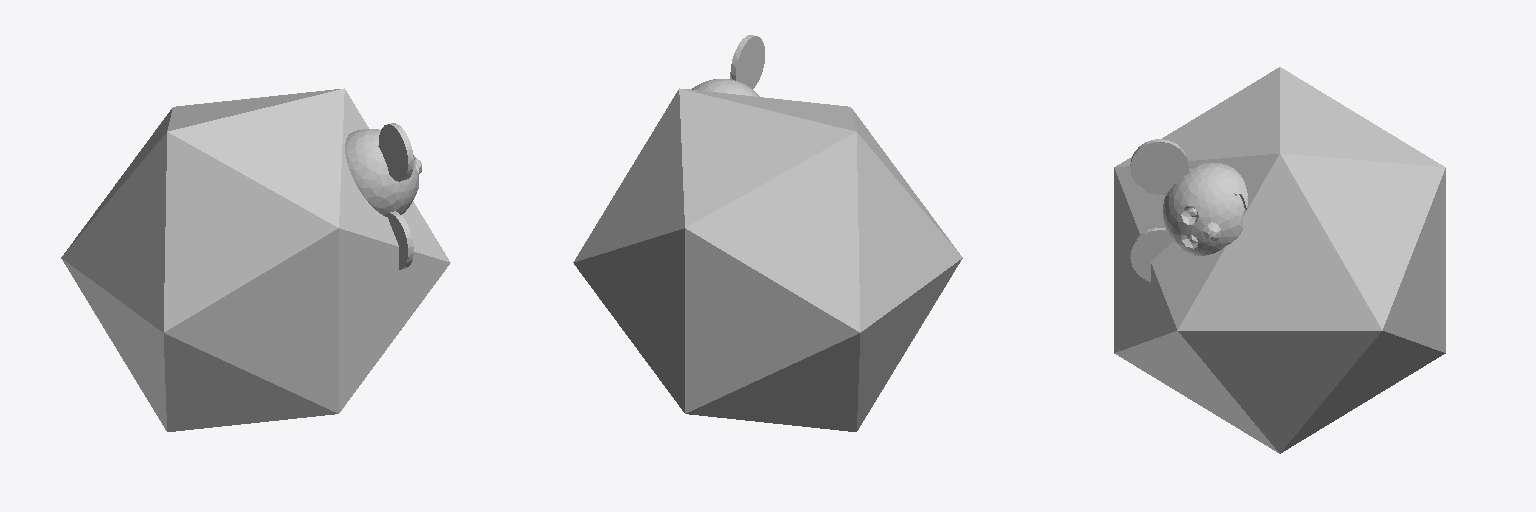
File: mickey.obj
3 views of the same model, side by side, from view 1: azimuth 30°, elevation 25°; view 2: azimuth 150°, elevation 25°; view 3: azimuth 270°, elevation 25° (orthographic).
Parts seen in each view (by area): view 1: icosahedron, mickey; view 2: icosahedron, mickey; view 3: icosahedron, mickey.
Part boxes in pixels (left/top/right/bottom): icosahedron: left=61, top=88, right=450, bottom=431; mickey: left=345, top=123, right=421, bottom=269; icosahedron: left=573, top=88, right=962, bottom=431; mickey: left=691, top=35, right=764, bottom=96; icosahedron: left=1114, top=67, right=1445, bottom=453; mickey: left=1130, top=139, right=1247, bottom=281.
Bounding box in the file's own units: 1.7 × 1.75 × 1.7.